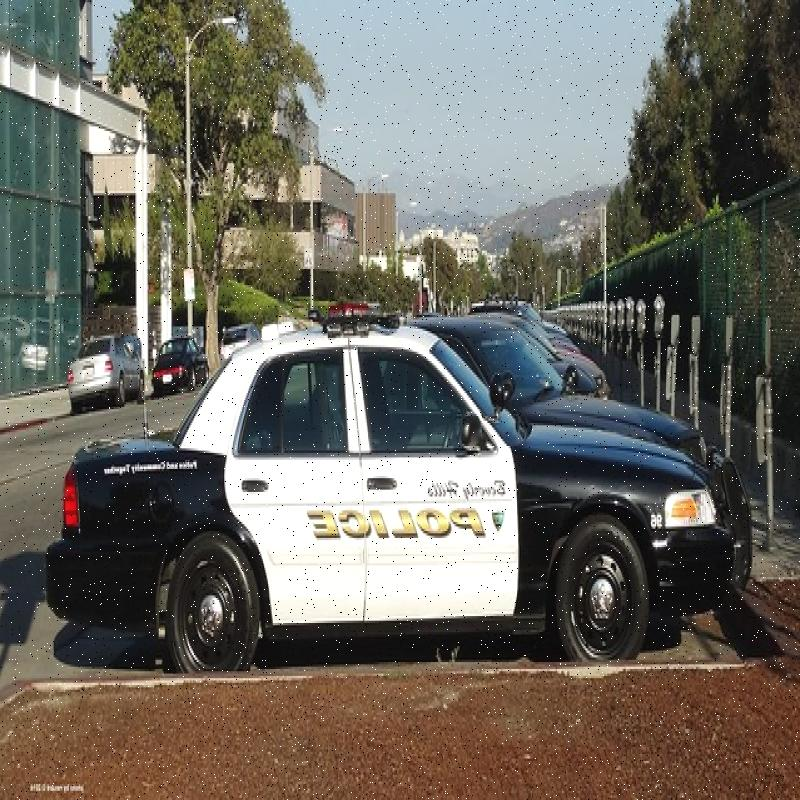AmbulanceSiren: (314, 269, 403, 349)
